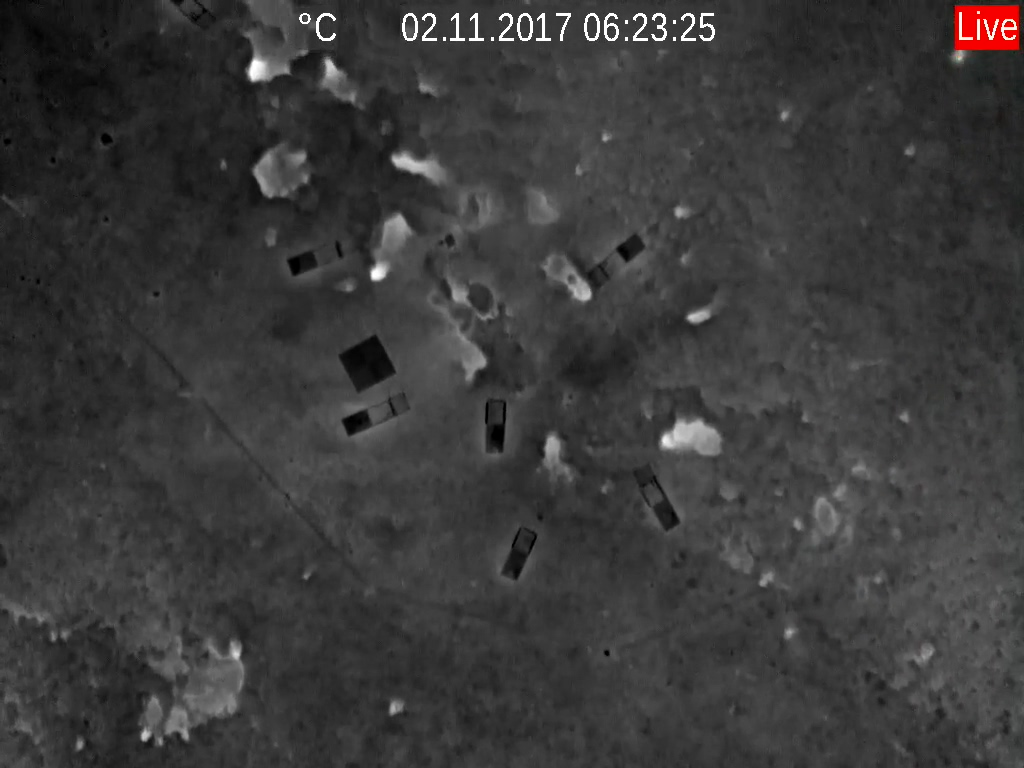warren: (649, 405, 727, 462), (381, 142, 456, 186), (314, 49, 360, 104), (238, 41, 285, 86), (537, 424, 571, 478), (359, 247, 399, 289), (681, 299, 722, 329), (133, 711, 168, 745), (384, 690, 413, 719)
